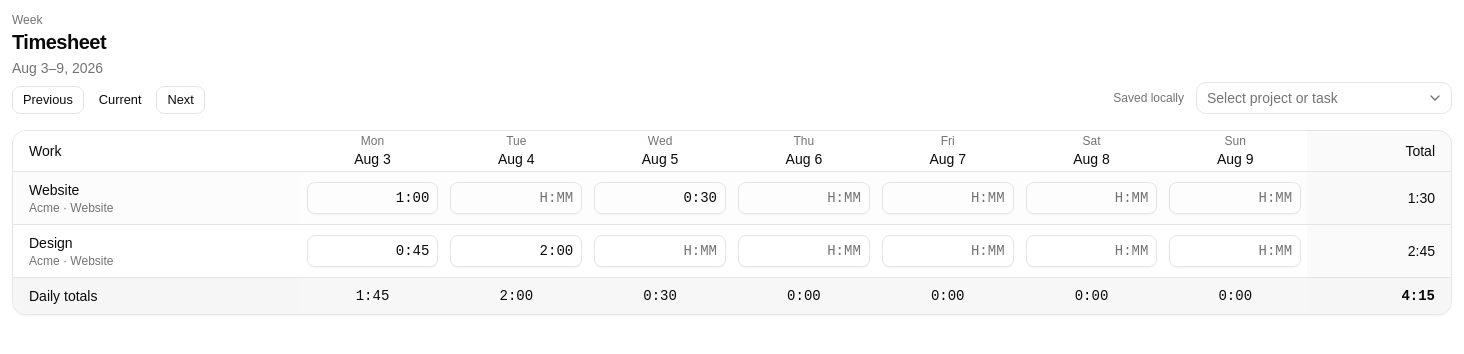
Test: commits the active valid cell and waits for its save before changing week
This screenshot has width=1464, height=354.
Step 1. Replace the text in the field named "Acme · Website · Mon Aug 3" with "2:00" → (372, 198), box [307, 182, 438, 214]
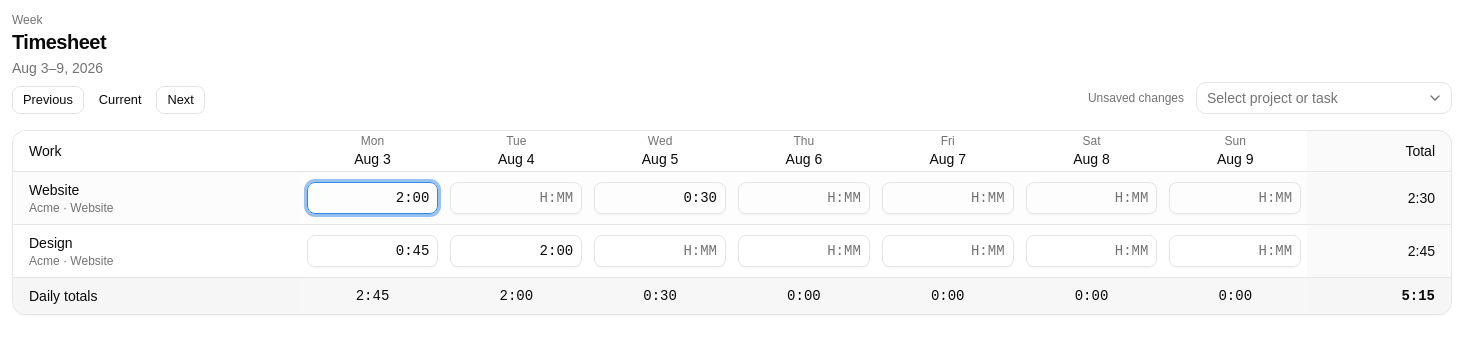
Step 2. Click the button "Next" → (181, 100), box [156, 86, 205, 114]
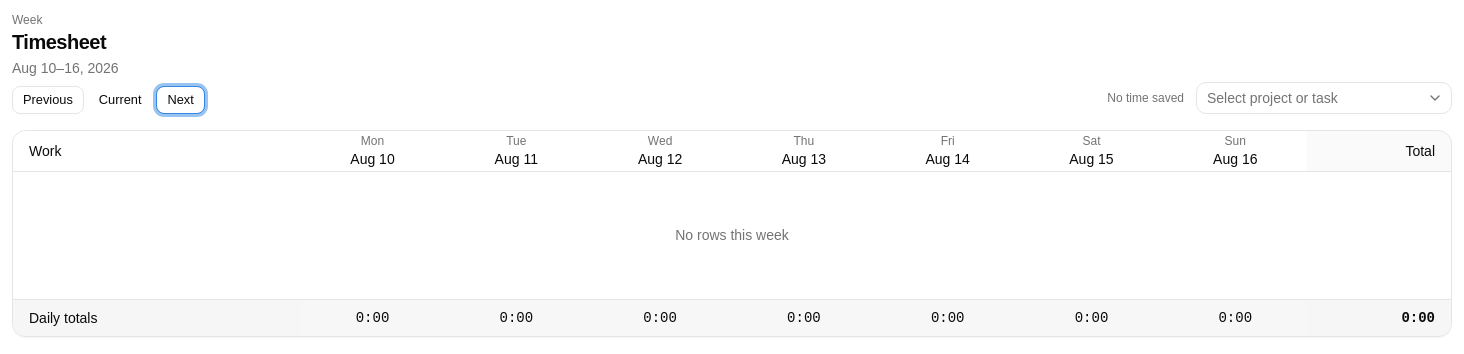
Result: the text "Aug 10–16, 2026" is shown at [12, 60, 119, 76]
